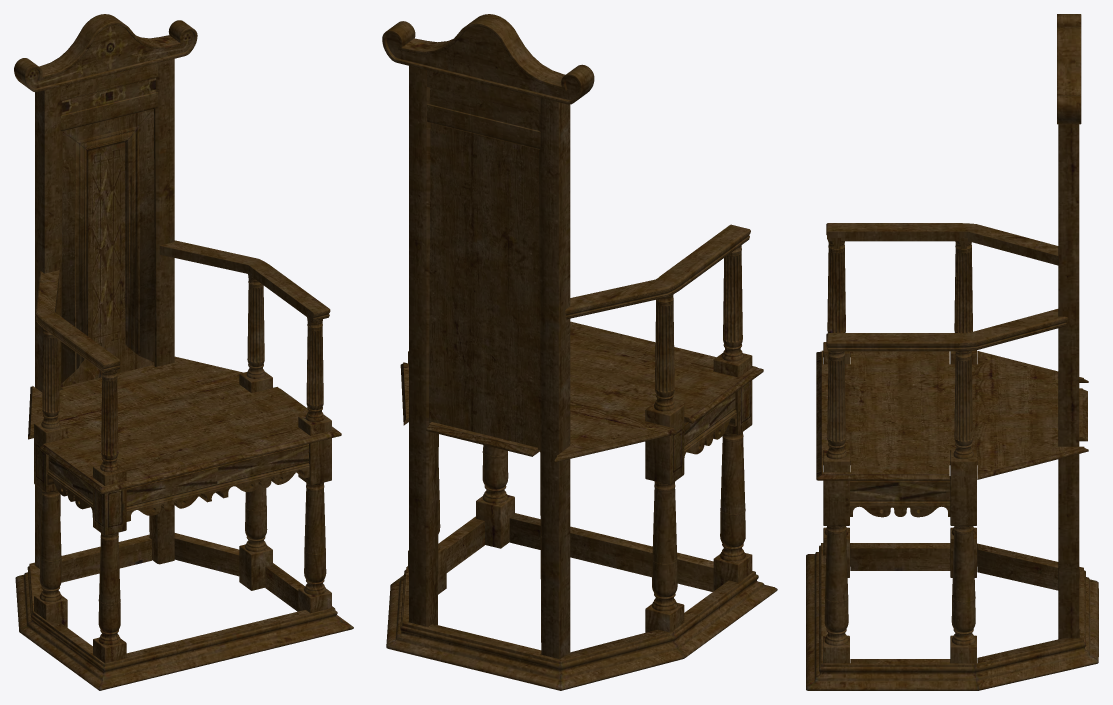
Rendered from trono madera glb.draco.webp.tmp.glb.
3 views of the same model, side by side, from view 1: azimuth 30°, elevation 25°; view 2: azimuth 150°, elevation 25°; view 3: azimuth 270°, elevation 25° (orthographic). The views are drawn at different scales.
Parts seen in each view (by area): view 1: 2_Seat_Back, 7_Seat, 16_Bottom, 1_Top_Back, 4_Leg_Back_Right, 3_Leg_Back_Left, 14_Leg_Front_Left, 15_Leg_Front_Right, 8_Seat_Part_Center, 11_Leg_Center_Left, 12_Leg_Center_Right, 6_Arm_Right (+2 smaller); view 2: 2_Seat_Back, 16_Bottom, 3_Leg_Back_Left, 7_Seat, 1_Top_Back, 4_Leg_Back_Right, 11_Leg_Center_Left, 14_Leg_Front_Left, 5_Arm_Left, 15_Leg_Front_Right, 9_Seat_Part_Left; view 3: 7_Seat, 16_Bottom, 4_Leg_Back_Right, 12_Leg_Center_Right, 15_Leg_Front_Right, 6_Arm_Right, 5_Arm_Left, 10_Seat_Part_Right, 1_Top_Back, 11_Leg_Center_Left, 14_Leg_Front_Left.
Boxes of the visible parts, x1,y1,x2,y2 form: 2_Seat_Back: [61, 109, 154, 387]; 7_Seat: [28, 356, 341, 493]; 16_Bottom: [15, 533, 353, 690]; 1_Top_Back: [14, 14, 197, 131]; 4_Leg_Back_Right: [149, 58, 174, 564]; 3_Leg_Back_Left: [35, 86, 62, 568]; 14_Leg_Front_Left: [93, 369, 126, 663]; 15_Leg_Front_Right: [298, 317, 331, 613]; 8_Seat_Part_Center: [126, 444, 309, 521]; 11_Leg_Center_Left: [34, 328, 67, 627]; 12_Leg_Center_Right: [239, 271, 272, 590]; 6_Arm_Right: [159, 240, 330, 321]; 2_Seat_Back: [429, 123, 540, 449]; 16_Bottom: [386, 513, 777, 690]; 3_Leg_Back_Left: [539, 98, 570, 658]; 7_Seat: [400, 321, 763, 462]; 1_Top_Back: [382, 14, 594, 149]; 4_Leg_Back_Right: [409, 66, 438, 626]; 11_Leg_Center_Left: [645, 294, 684, 632]; 14_Leg_Front_Left: [713, 245, 752, 590]; 5_Arm_Left: [565, 224, 750, 319]; 15_Leg_Front_Right: [476, 445, 514, 548]; 9_Seat_Part_Left: [684, 393, 736, 457]; 7_Seat: [816, 350, 1088, 480]; 16_Bottom: [806, 543, 1098, 690]; 4_Leg_Back_Right: [1058, 124, 1079, 639]; 12_Leg_Center_Right: [950, 350, 976, 663]; 15_Leg_Front_Right: [823, 351, 849, 663]; 6_Arm_Right: [826, 309, 1068, 351]; 5_Arm_Left: [826, 223, 1058, 265]; 10_Seat_Part_Right: [850, 476, 950, 517]; 1_Top_Back: [1057, 14, 1081, 124]; 11_Leg_Center_Left: [950, 238, 976, 577]; 14_Leg_Front_Left: [823, 238, 849, 577].
Bounding box in the file's own units: 0.5785 × 1.2 × 0.5337.
1 material, 1 textured.
